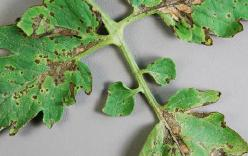Tomato Septoria leaf spot: (0, 0, 102, 156), (129, 85, 248, 156), (111, 0, 248, 54)
